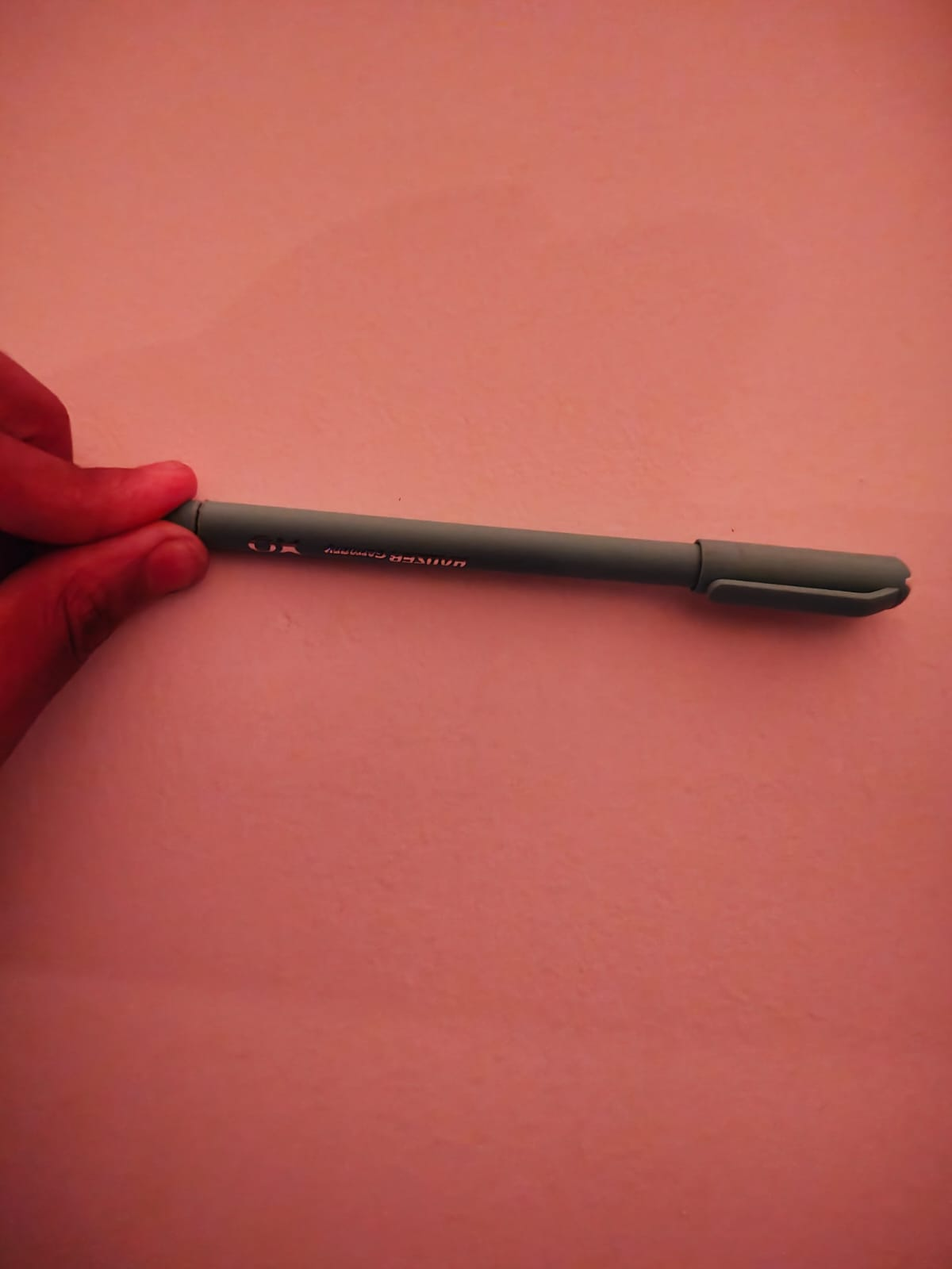pen: (158, 474, 924, 642)
